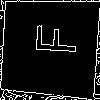F: (24, 23, 78, 55)
